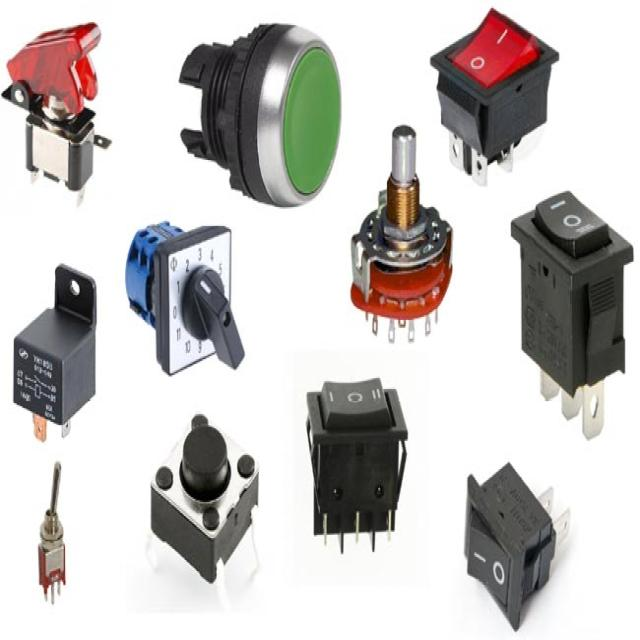Push button: (174, 20, 341, 210), (348, 126, 452, 342), (148, 408, 259, 595)
switch: (512, 188, 636, 436), (428, 6, 557, 184), (124, 218, 253, 380), (0, 21, 110, 196), (303, 377, 407, 551), (463, 460, 561, 630), (13, 264, 98, 439), (37, 459, 67, 604)
